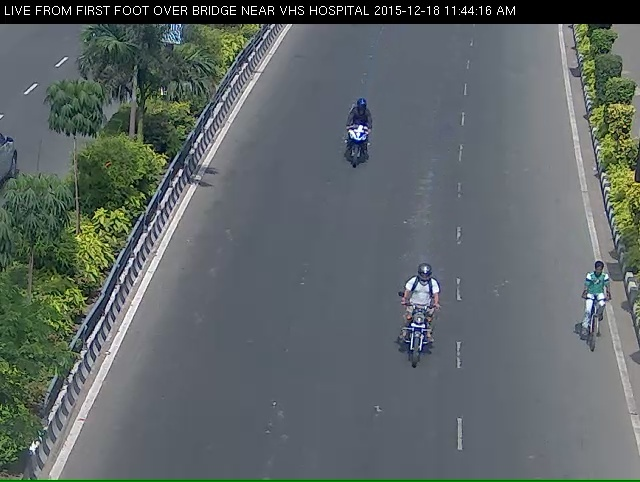Person: (381, 305, 452, 412), (326, 117, 379, 196)
